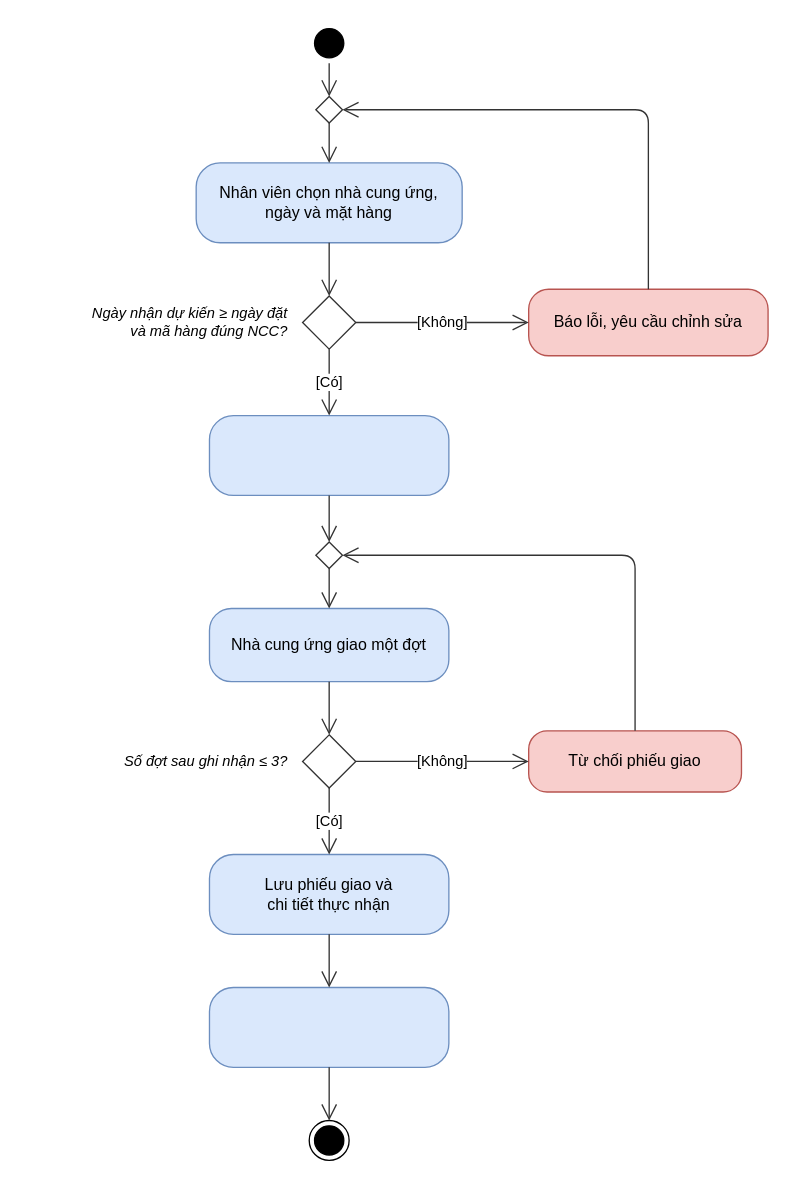
The diagram is 791 pixels wide and 1184 high, and some of its shapes have lost their labels. Each missing label, with the box of its shape:
Lưu đơn và chi tiết trong transaction: (208, 414, 449, 495)
Trigger cộng tồn theo số lượng thực nhận: (208, 986, 449, 1067)
